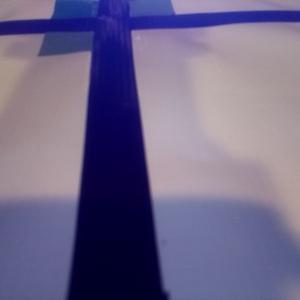bottom_left: (38, 19, 129, 55)
top_left: (52, 1, 129, 30)
top_right: (100, 1, 175, 28)
